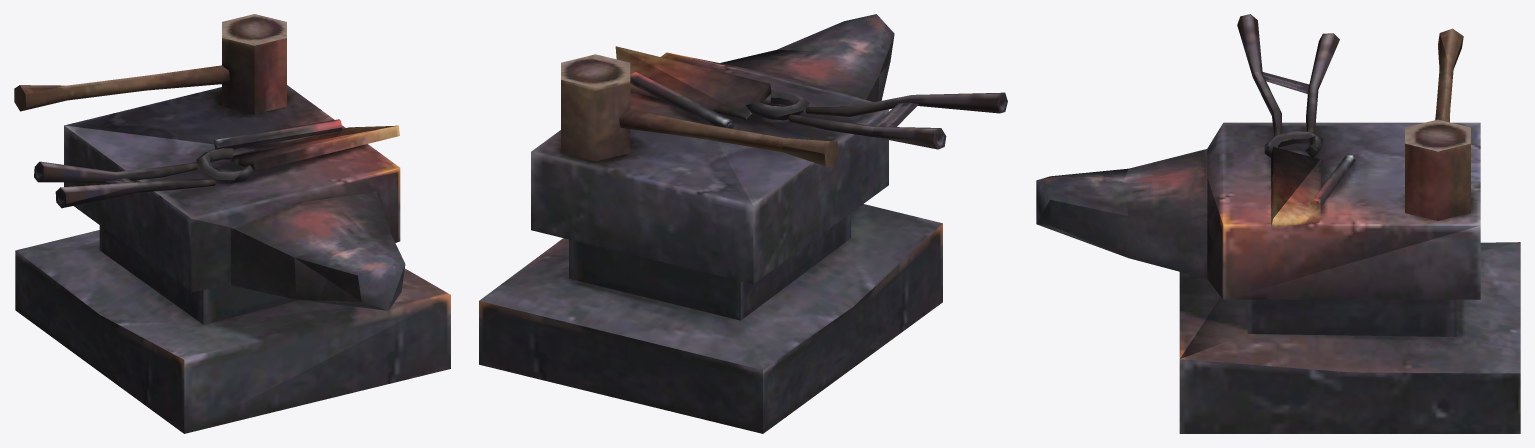
The model's file is tiejiang1.FBX.
The picture shows the model from 3 angles, left to right: view 1: azimuth 30°, elevation 25°; view 2: azimuth 150°, elevation 25°; view 3: azimuth 270°, elevation 25°; orthographic projection. The views are drawn at different scales.
Visible parts, largest first — view 1: Mesh_0058; view 2: Mesh_0058; view 3: Mesh_0058.
Boxes of the visible parts, left/top/right/bottom form: Mesh_0058: left=14, top=14, right=450, bottom=433; Mesh_0058: left=479, top=14, right=1007, bottom=433; Mesh_0058: left=1036, top=14, right=1520, bottom=433.
Bounding box in the file's own units: 0.2629 × 0.1843 × 0.3058.
